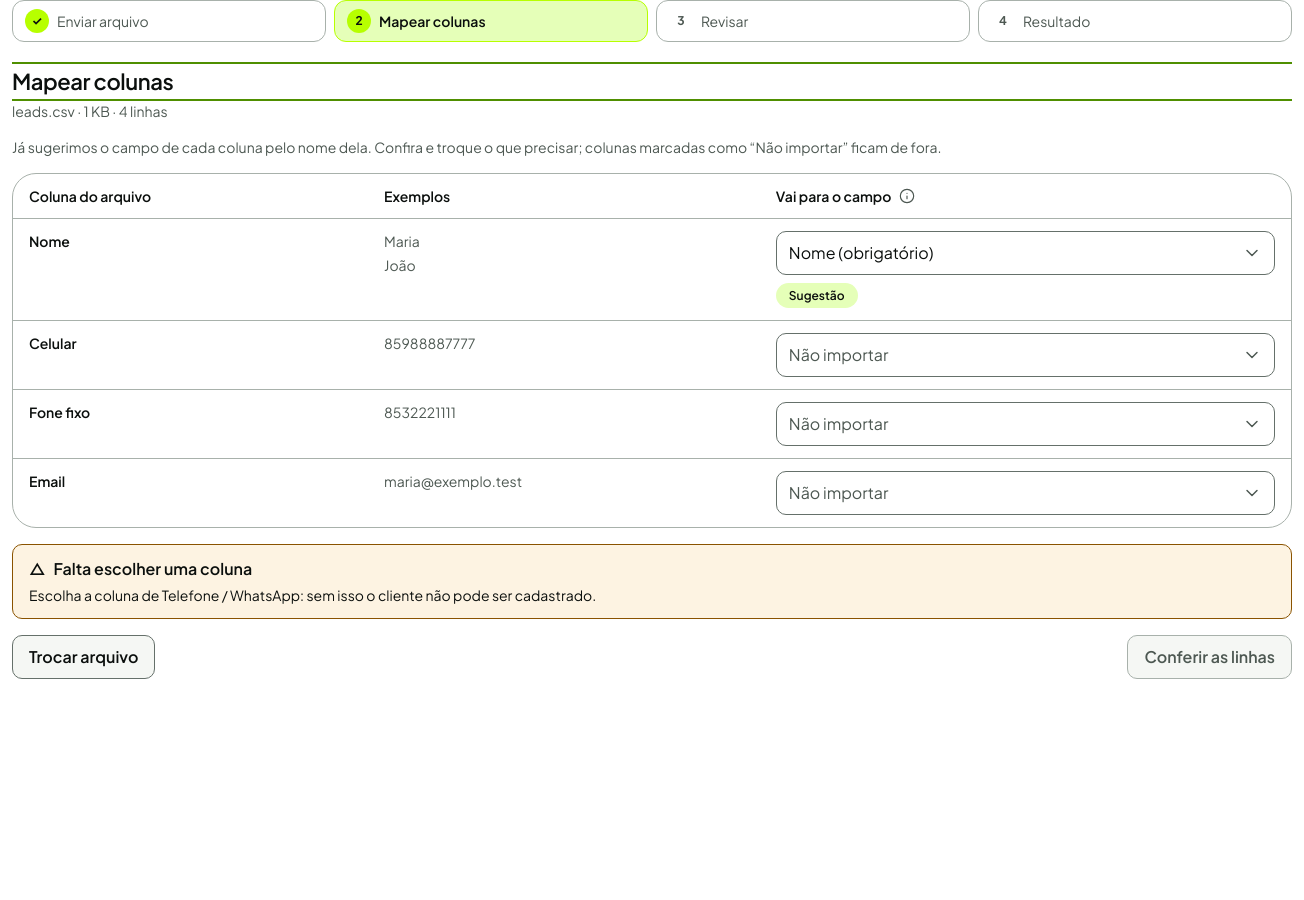
it: os quatro passos, do arquivo ao relatório › sem coluna de telefone, não deixa seguir e diz o que falta
The image size is (1304, 900).
Earlier steps of the test are not shown.
Expected: the button "Conferir as linhas" is disabled, [1127,635,1292,679]
Click the dropdown labelled "Não importar" in the row of "Celular".
click(839, 354)  # box [776,333,1275,377]
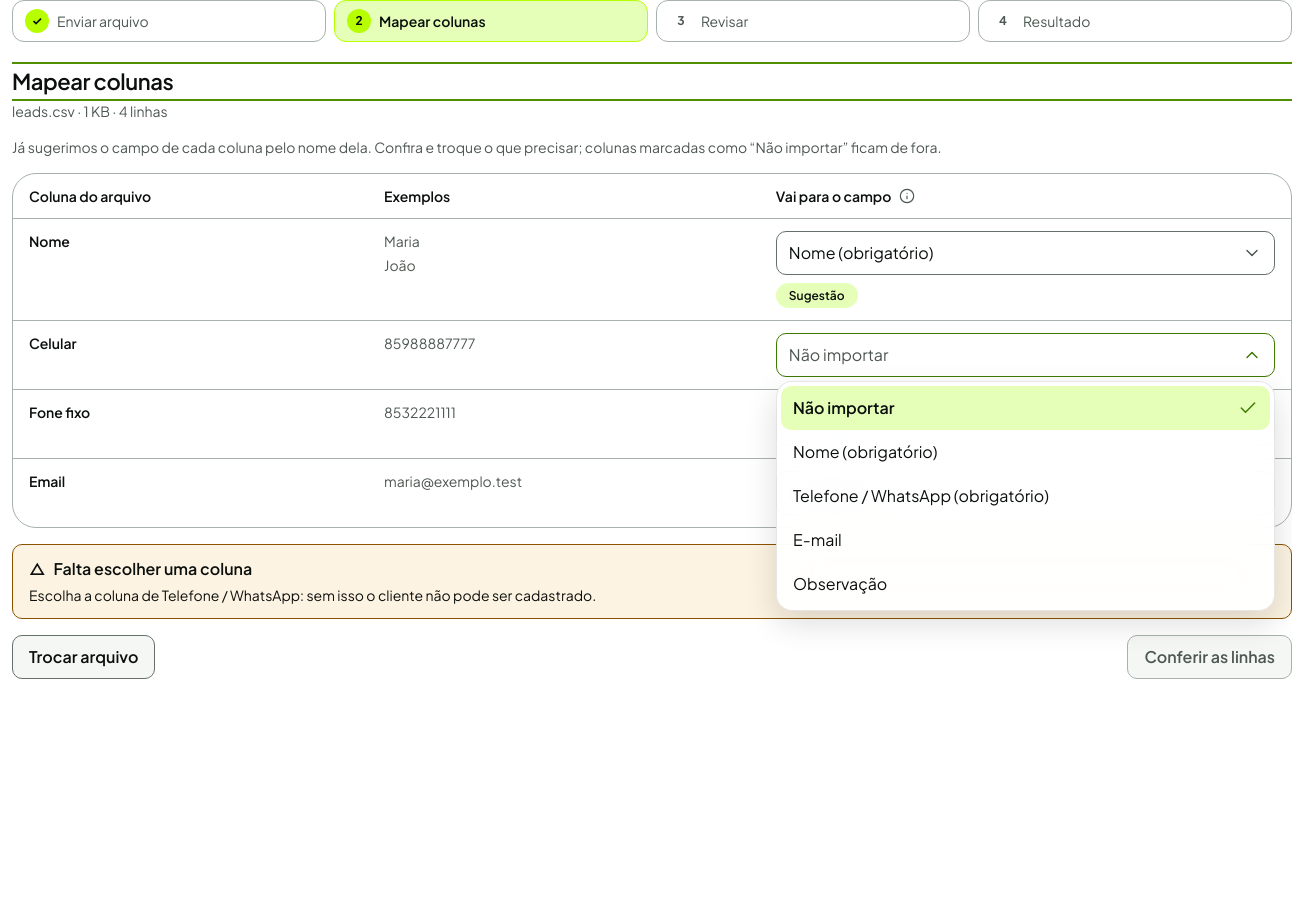
Click the option "Telefone / WhatsApp (obrigatório)".
click(921, 495)  # box [793,485,1049,506]
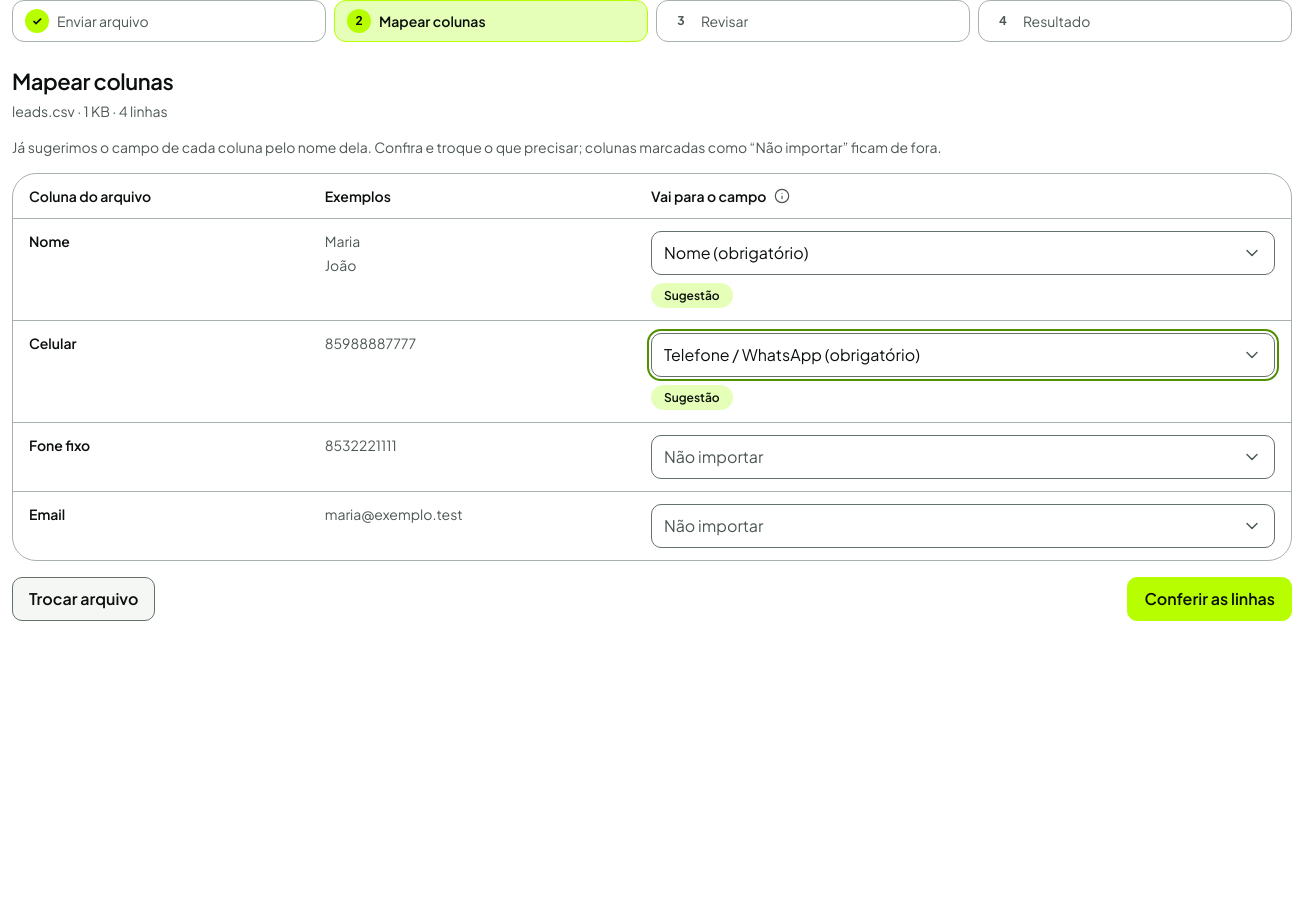
Expected: the button "Conferir as linhas" is enabled, [1127,577,1292,621]
